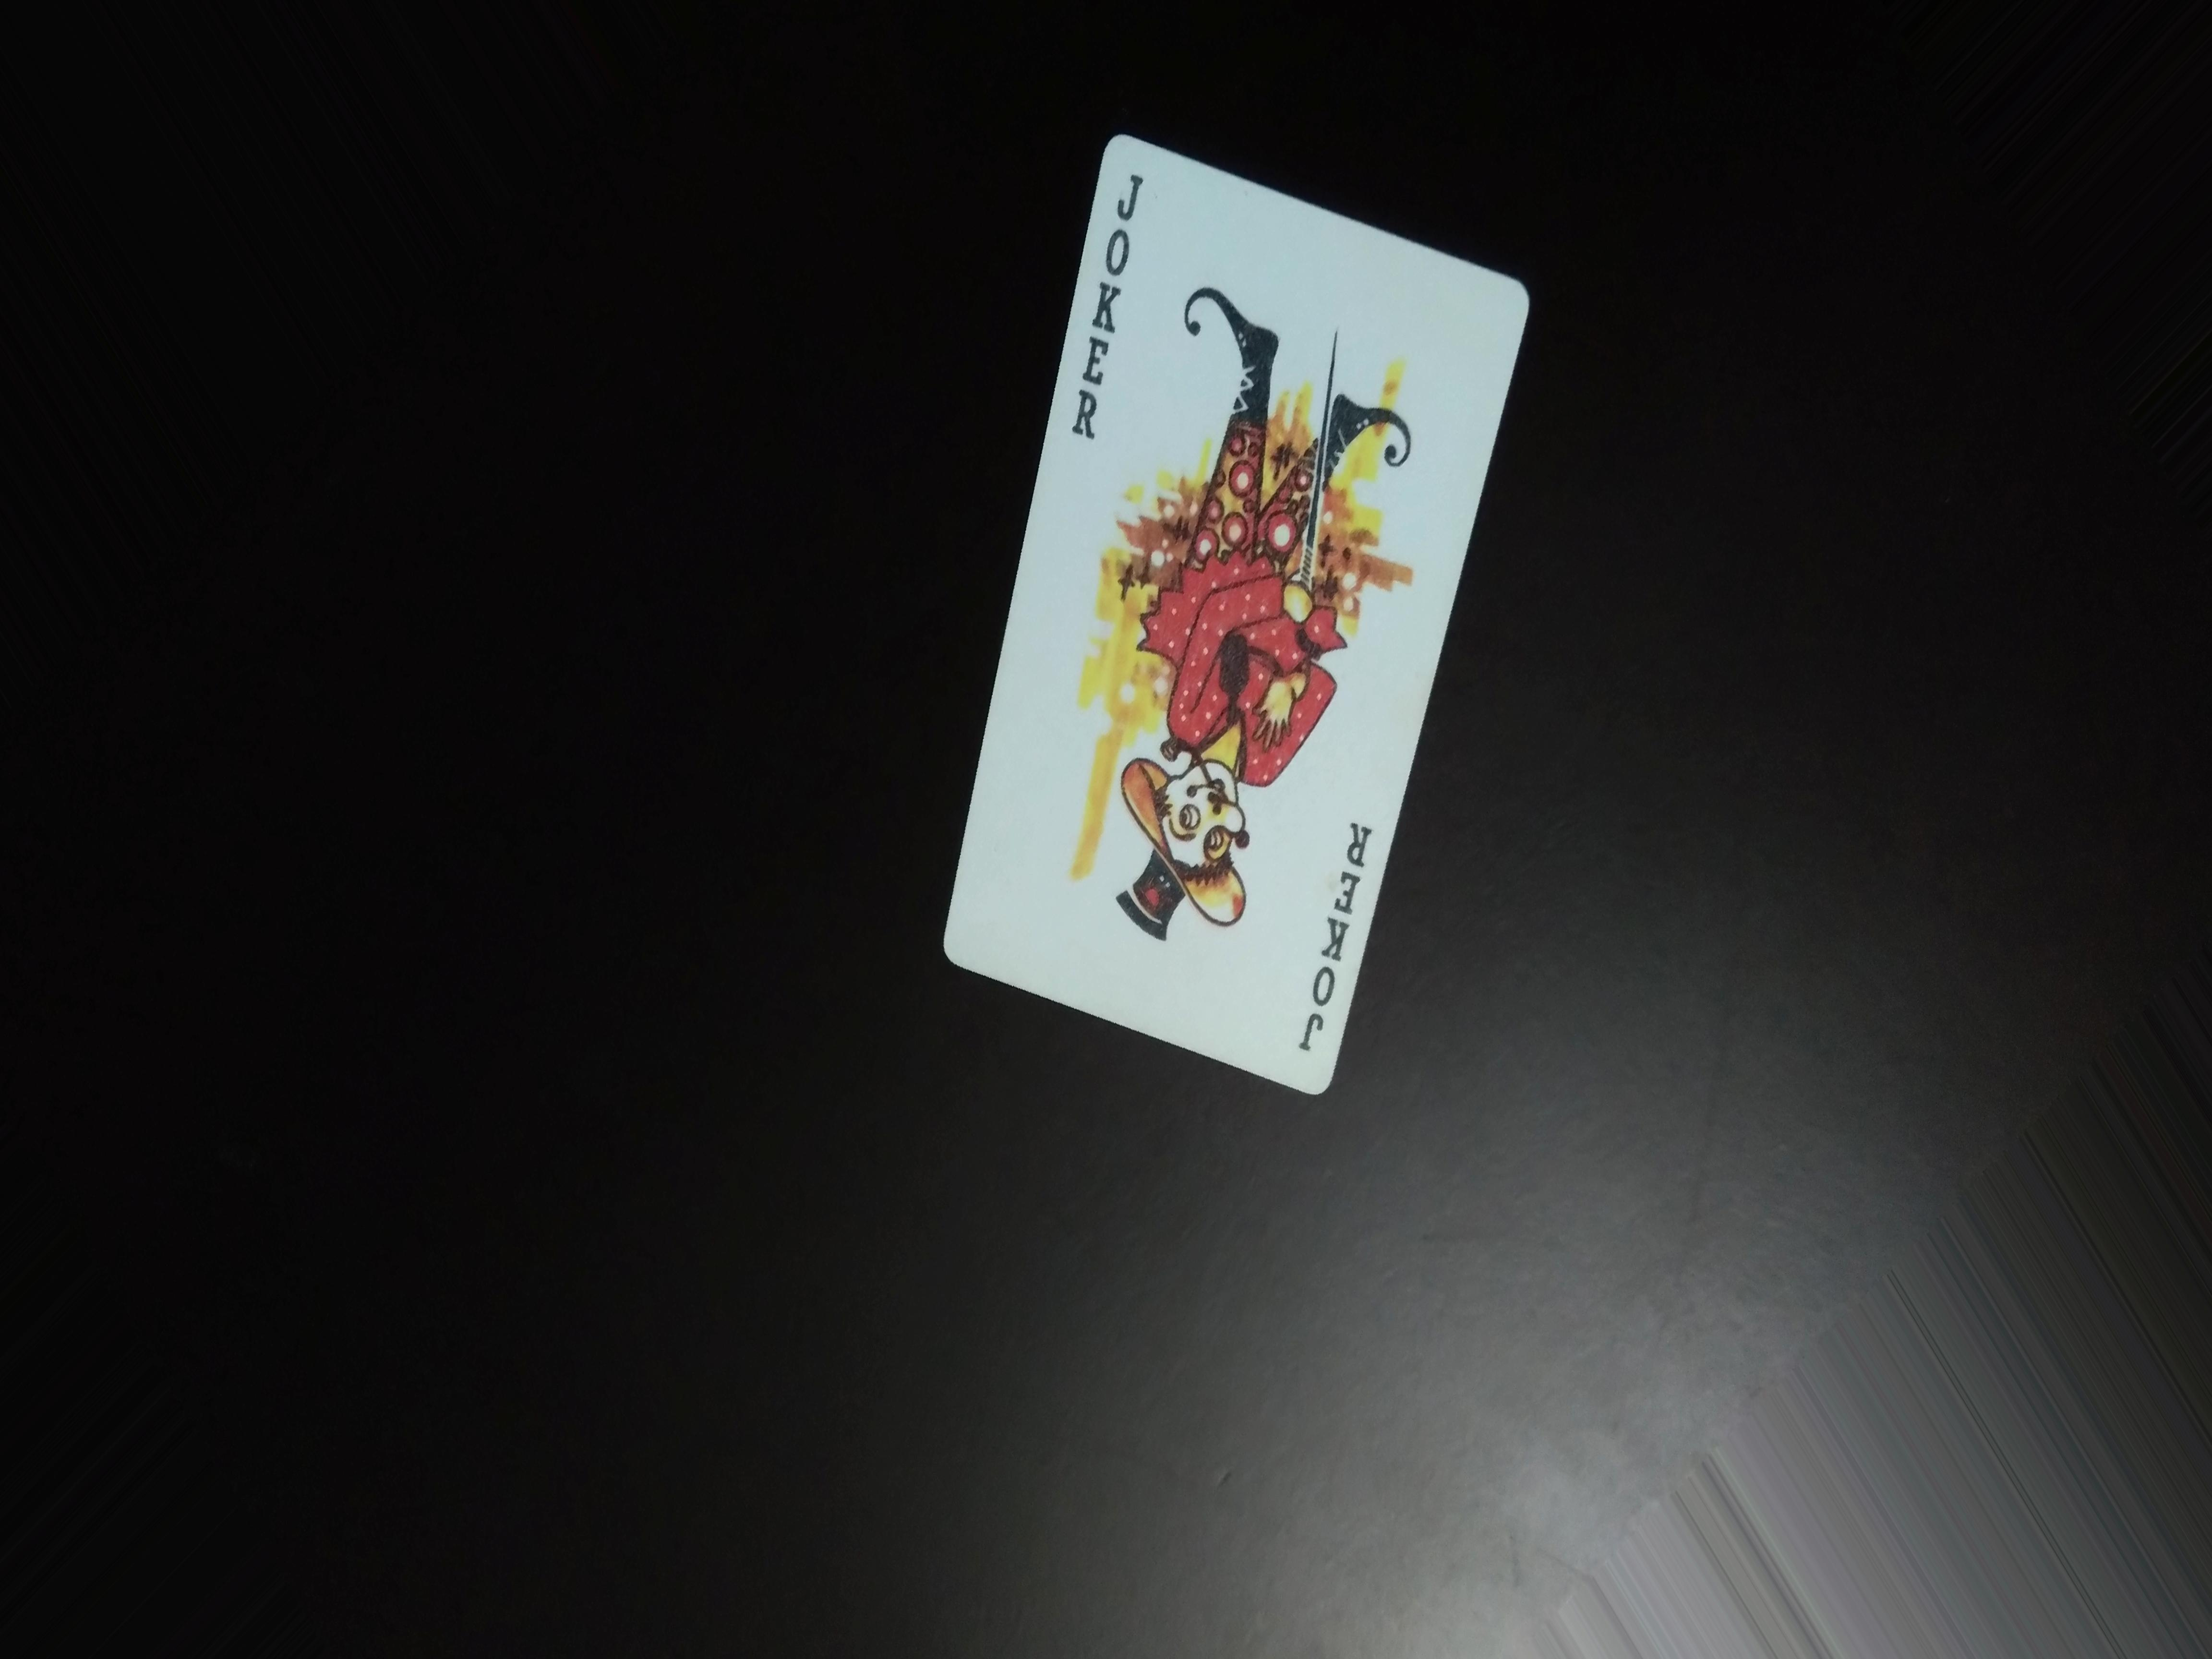JOKER: (1052, 169, 1155, 455)
